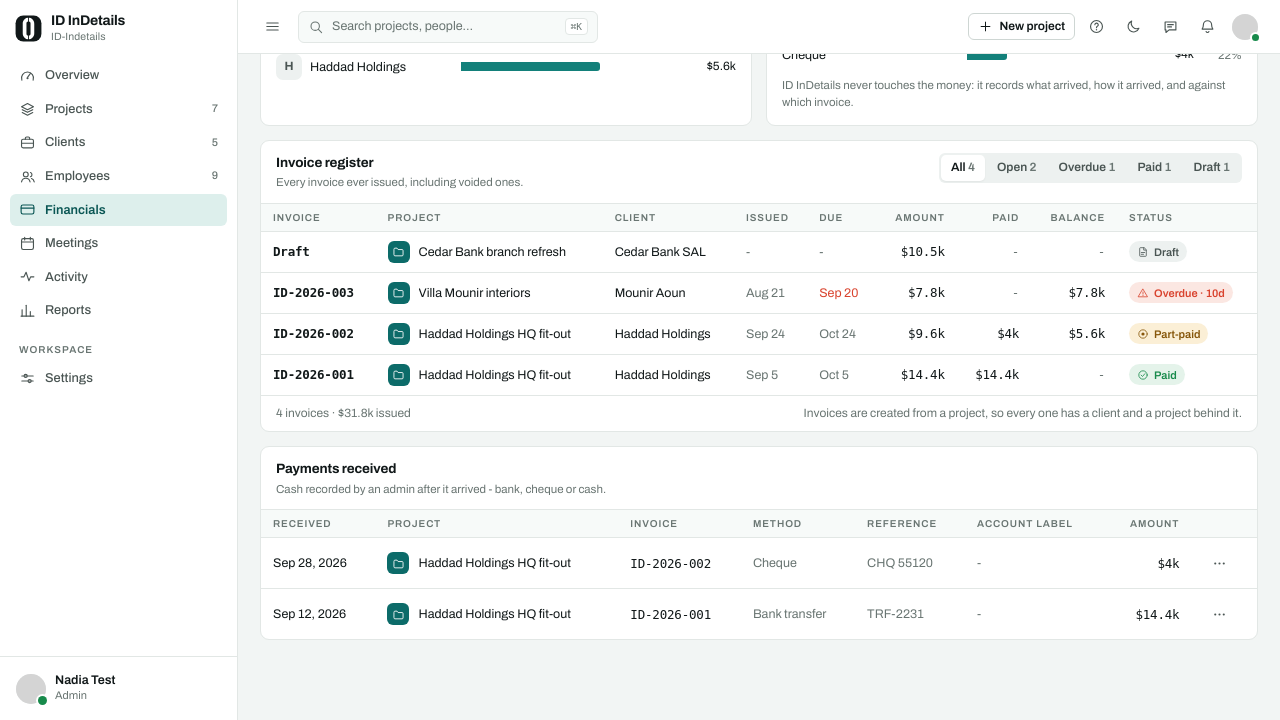
Test case: Correcting a payment › doesn't apply a payment that is already against an invoice
(page scrolled)
Expected: the text "ID-2026-002" in the row of "Sep 28, 2026" is shown, x1=630 y1=556 x2=711 y2=571
// its menu only files it under an account label: there is nothing to apply
Click the button named "Payment of Sep 28 actions" at [1219, 563], box x1=1203 y1=547 x2=1235 y2=579
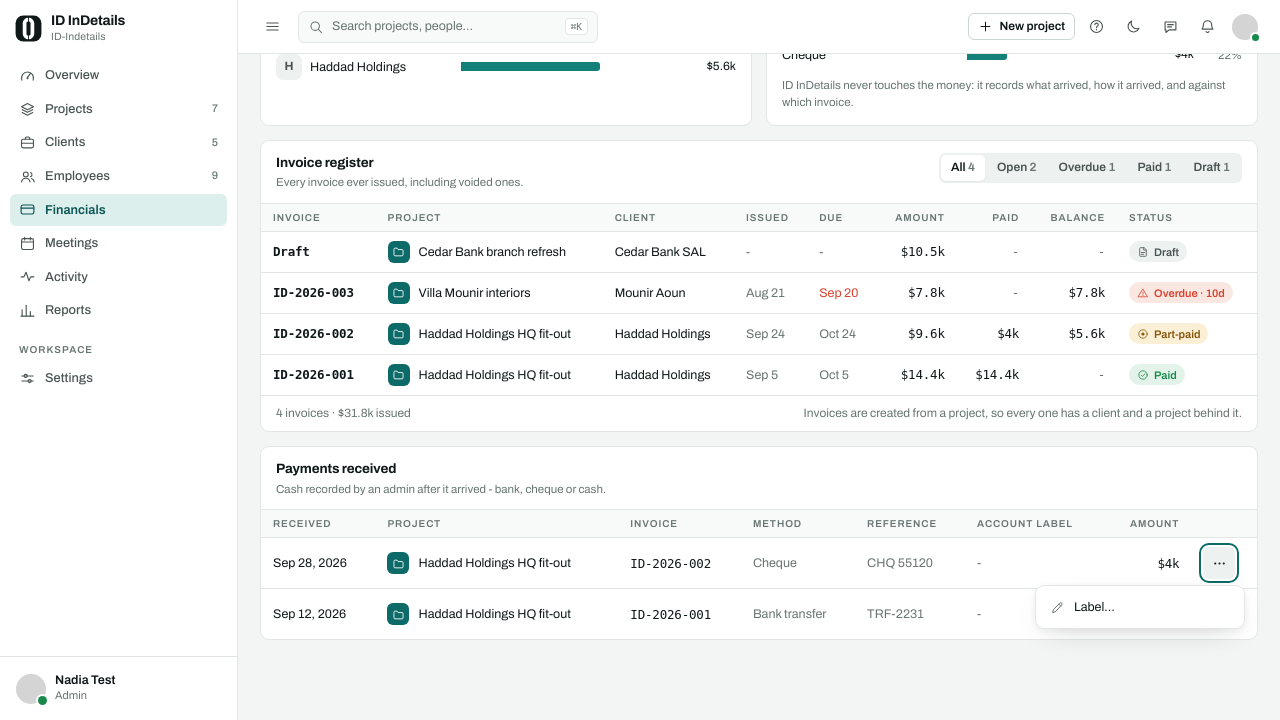
Expected: the button "Label…" is shown, x1=1041 y1=591 x2=1239 y2=623
